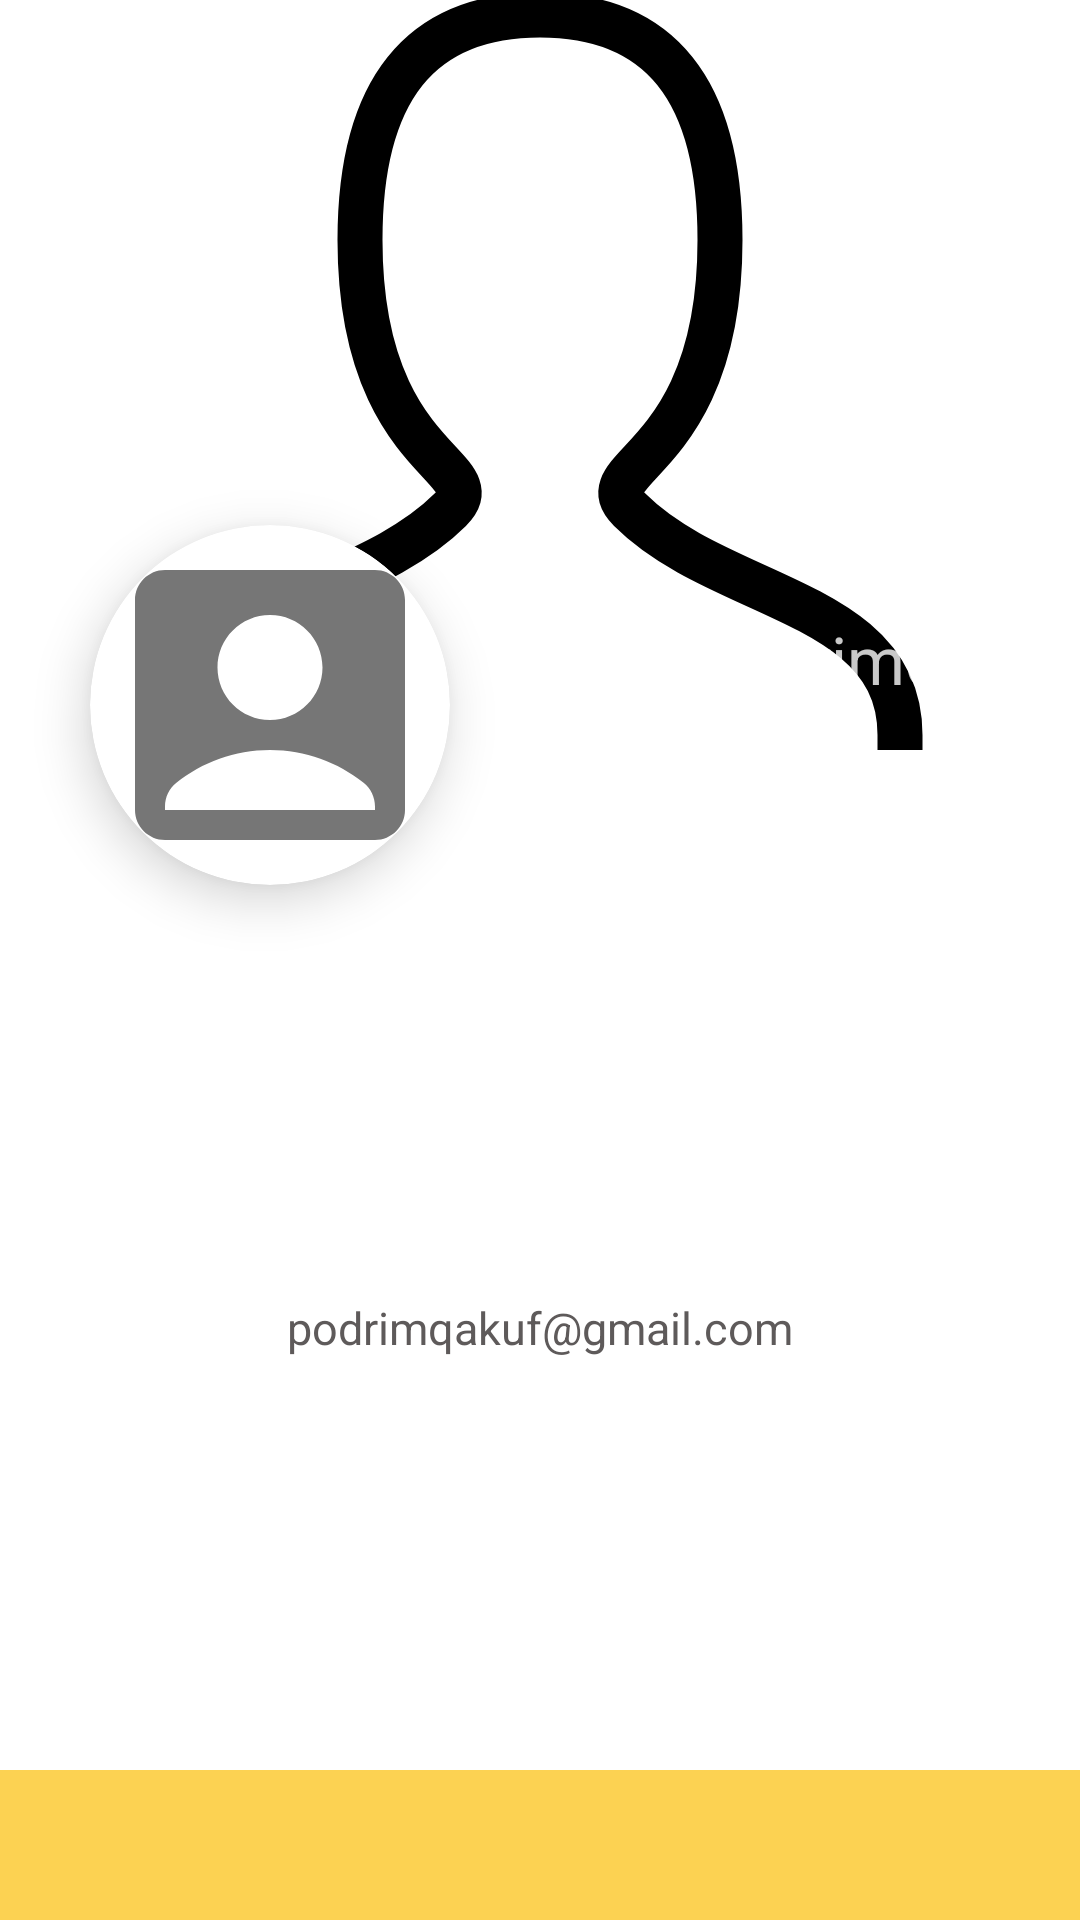

Icon click points for this 1080px x 1920px phone screenshot, format point (x, y):
account box: point (270, 705)
